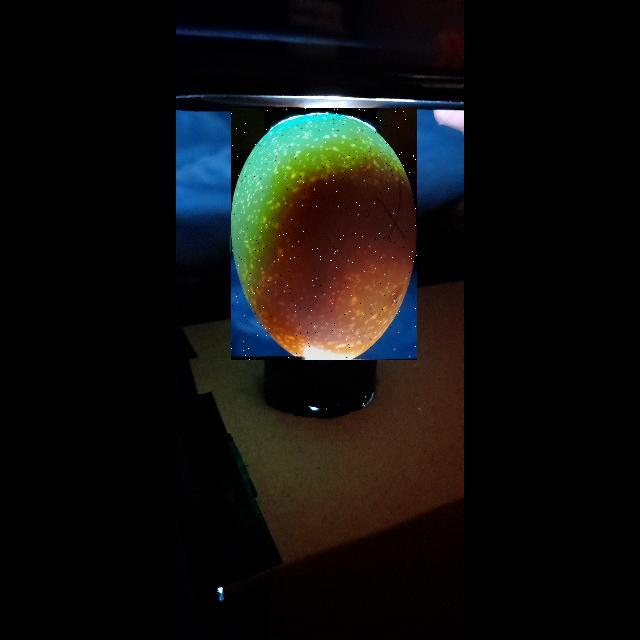Infertile: (231, 108, 417, 360)
